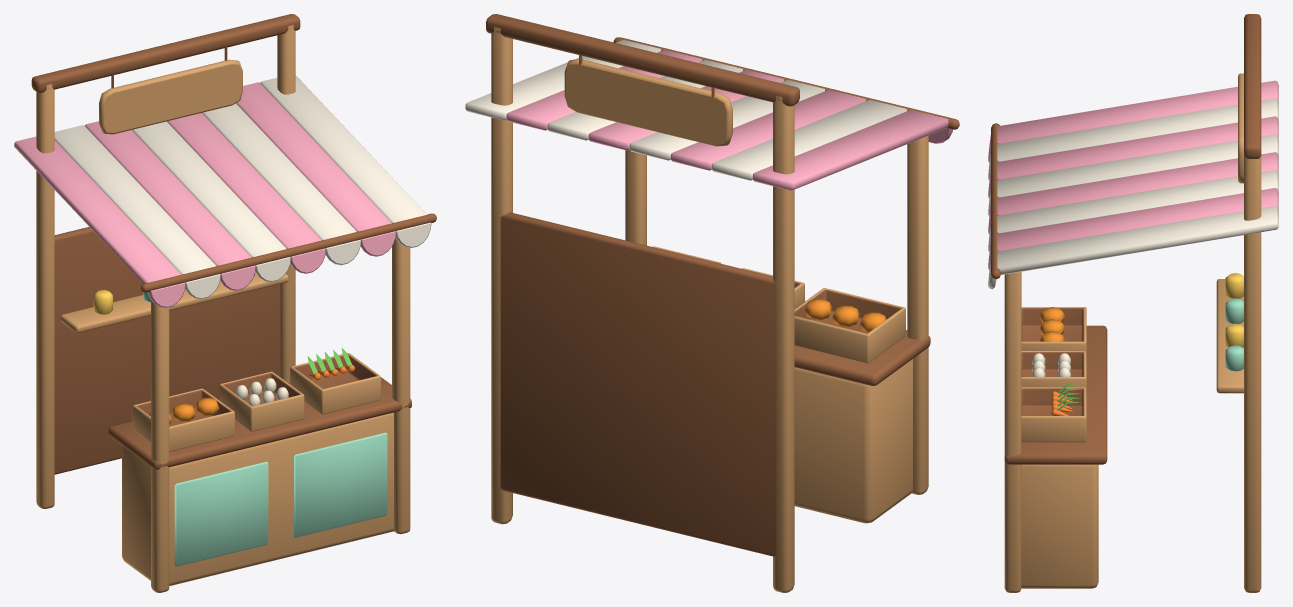
File: prop_shop.glb
3 renders of one model, left to right at view 1: azimuth 30°, elevation 25°; view 2: azimuth 150°, elevation 25°; view 3: azimuth 270°, elevation 25°, orthographic. The views are drawn at different scales.
Visible parts, largest first — view 1: prop_shop; view 2: prop_shop; view 3: prop_shop.
Boxes of the visible parts, bbox=[...] form: prop_shop: bbox=[14, 14, 436, 592]; prop_shop: bbox=[465, 14, 959, 592]; prop_shop: bbox=[988, 14, 1278, 592].
Size of the model in its own units: 2.08 by 2.9 by 1.7.
